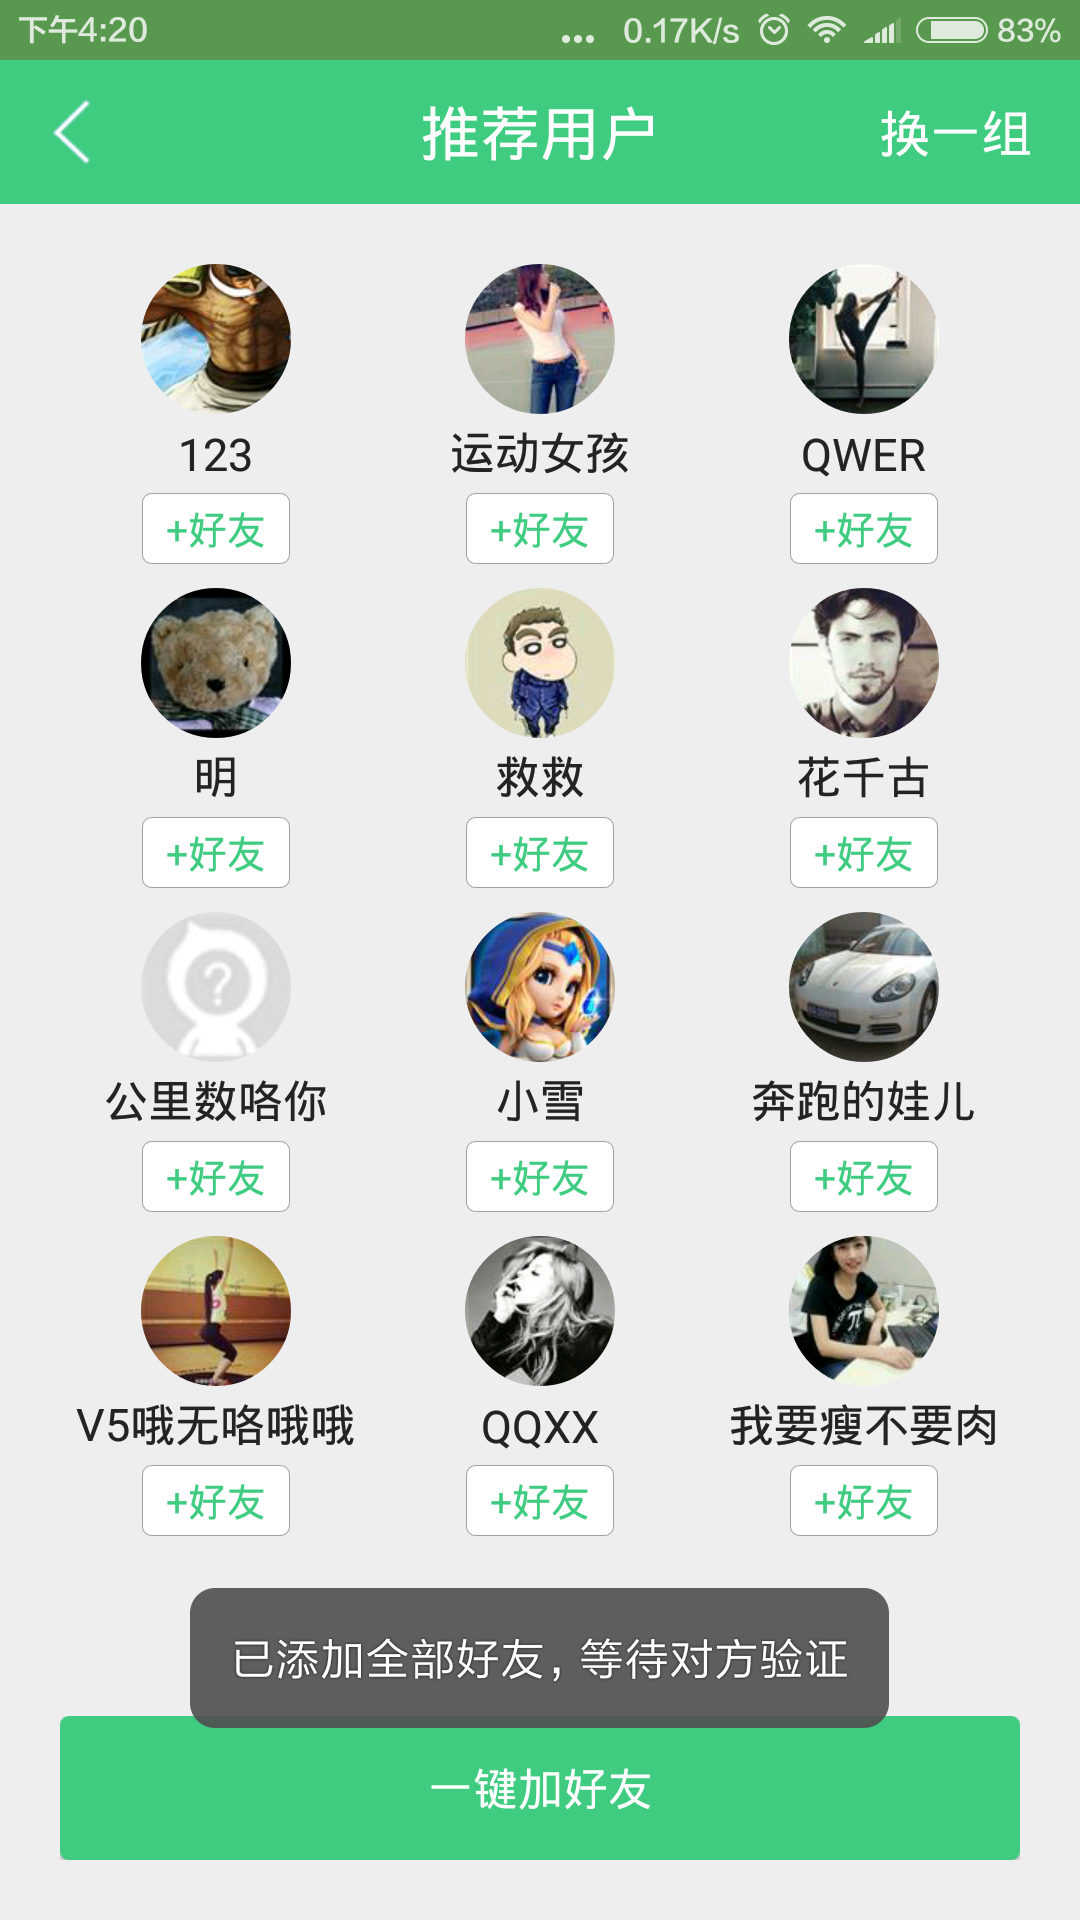alert: (181, 1581, 923, 1739)
button: (44, 1710, 1042, 1873), (127, 800, 310, 899), (123, 477, 313, 572), (444, 1456, 642, 1545), (456, 1133, 642, 1220), (458, 800, 625, 897), (779, 476, 944, 572), (119, 1137, 315, 1216), (133, 1460, 313, 1545), (781, 810, 960, 893), (771, 1462, 957, 1542), (781, 1135, 956, 1216), (454, 487, 622, 564)
imgbutton: (40, 84, 113, 181)
imgview: (108, 1237, 348, 1387), (442, 1241, 663, 1391), (119, 593, 334, 745), (444, 585, 642, 746), (771, 914, 981, 1064), (119, 918, 327, 1068), (446, 913, 646, 1065)
